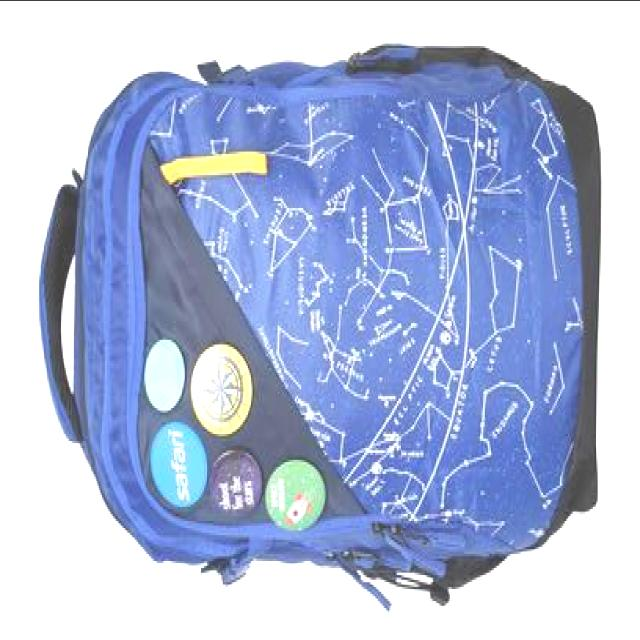backpack: (38, 43, 602, 613)
